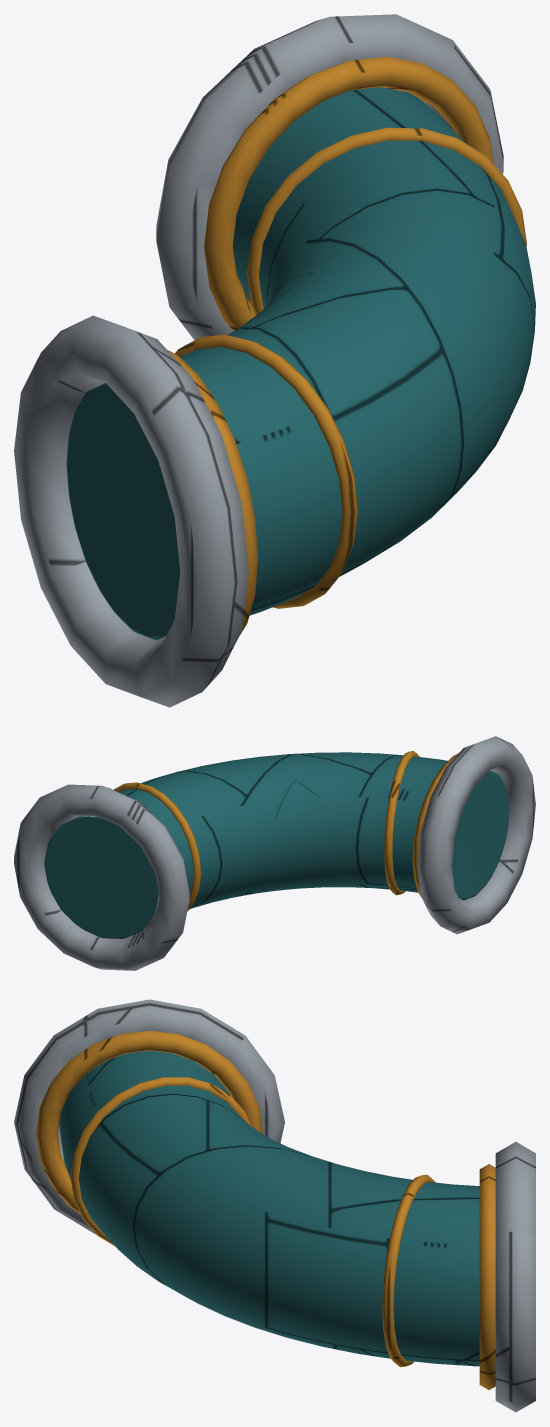
Rendered from pressure_pipe_elbow_90_lod0.glb.
3 renders of one model, top to bottom at view 1: azimuth 30°, elevation 25°; view 2: azimuth 150°, elevation 25°; view 3: azimuth 270°, elevation 25°, orthographic. The views are drawn at different scales.
Visible parts, largest first — view 1: LOD0_Armor, LOD0_BrushedMetal, LOD0_Livery; view 2: LOD0_Armor, LOD0_BrushedMetal, LOD0_Livery; view 3: LOD0_Armor, LOD0_BrushedMetal, LOD0_Livery.
Part boxes in pixels (box(x1,y1,x2,y2)): LOD0_Armor: box(66, 87, 535, 639); LOD0_BrushedMetal: box(14, 14, 503, 707); LOD0_Livery: box(156, 56, 526, 640); LOD0_Armor: box(44, 752, 509, 938); LOD0_BrushedMetal: box(14, 736, 535, 970); LOD0_Livery: box(48, 751, 458, 938); LOD0_Armor: box(59, 1050, 479, 1366); LOD0_BrushedMetal: box(14, 999, 535, 1412); LOD0_Livery: box(36, 1030, 495, 1389).
Size of the model in its own units: 2.14 by 1.11 by 2.14.
Materials: 3 (3 with a texture image).
